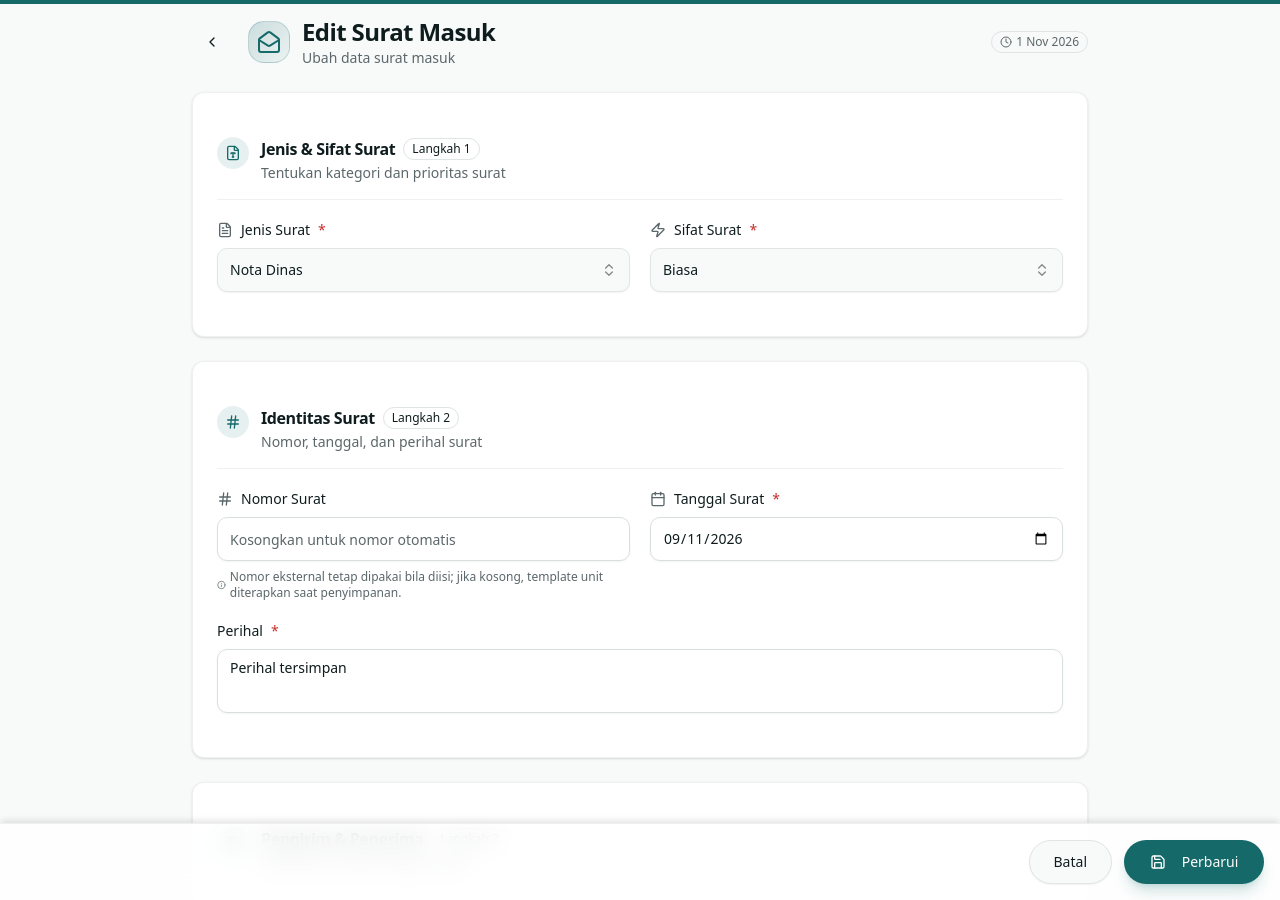
Test case: form surat masuk › focuses a server error, retains the entered data, and allows retry
Replace the text in the text box labelled "Perihal *" with "Perubahan belum tersimpan": (640, 681) x1=217 y1=649 x2=1063 y2=713
(page scrolled)
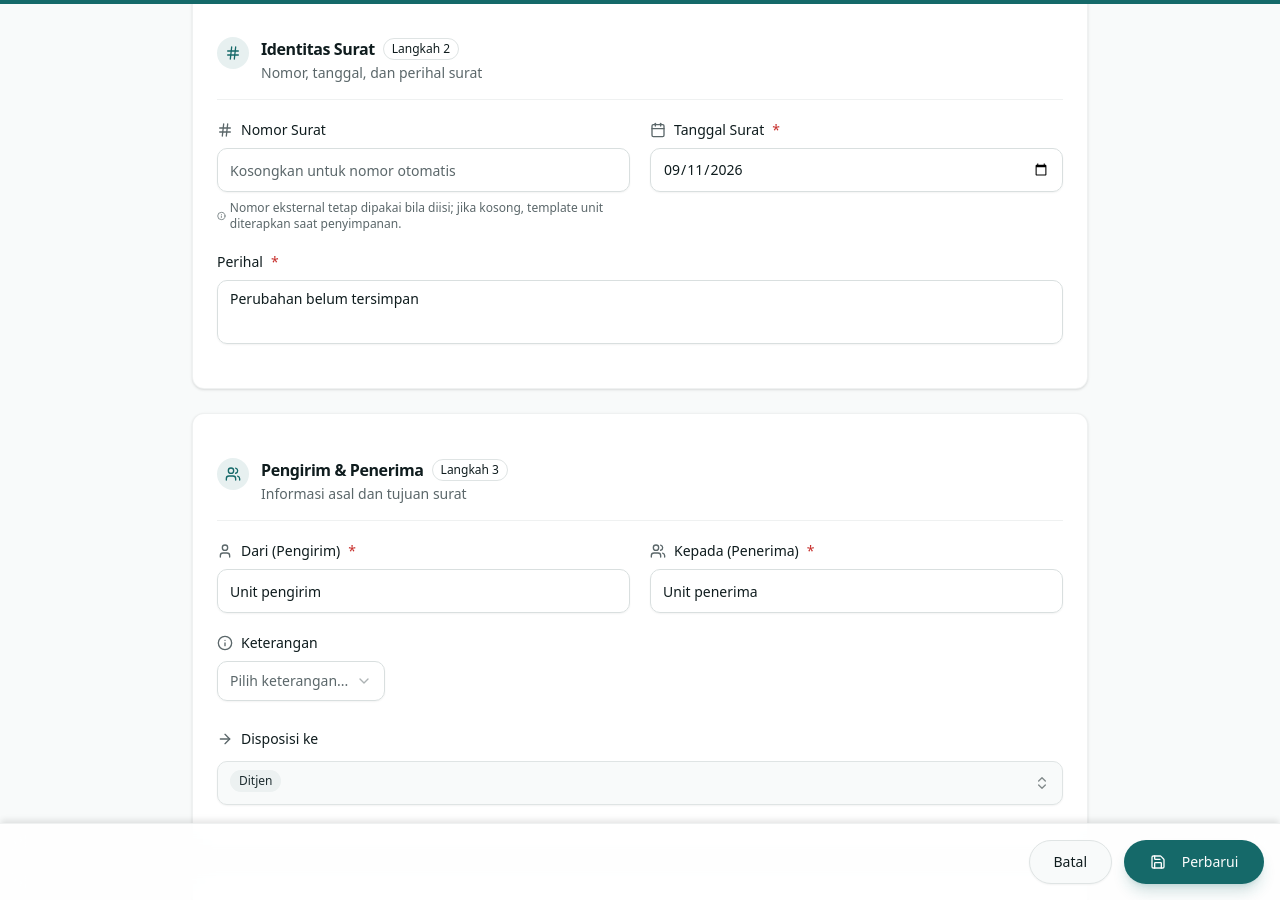
Submit the form
(page scrolled)
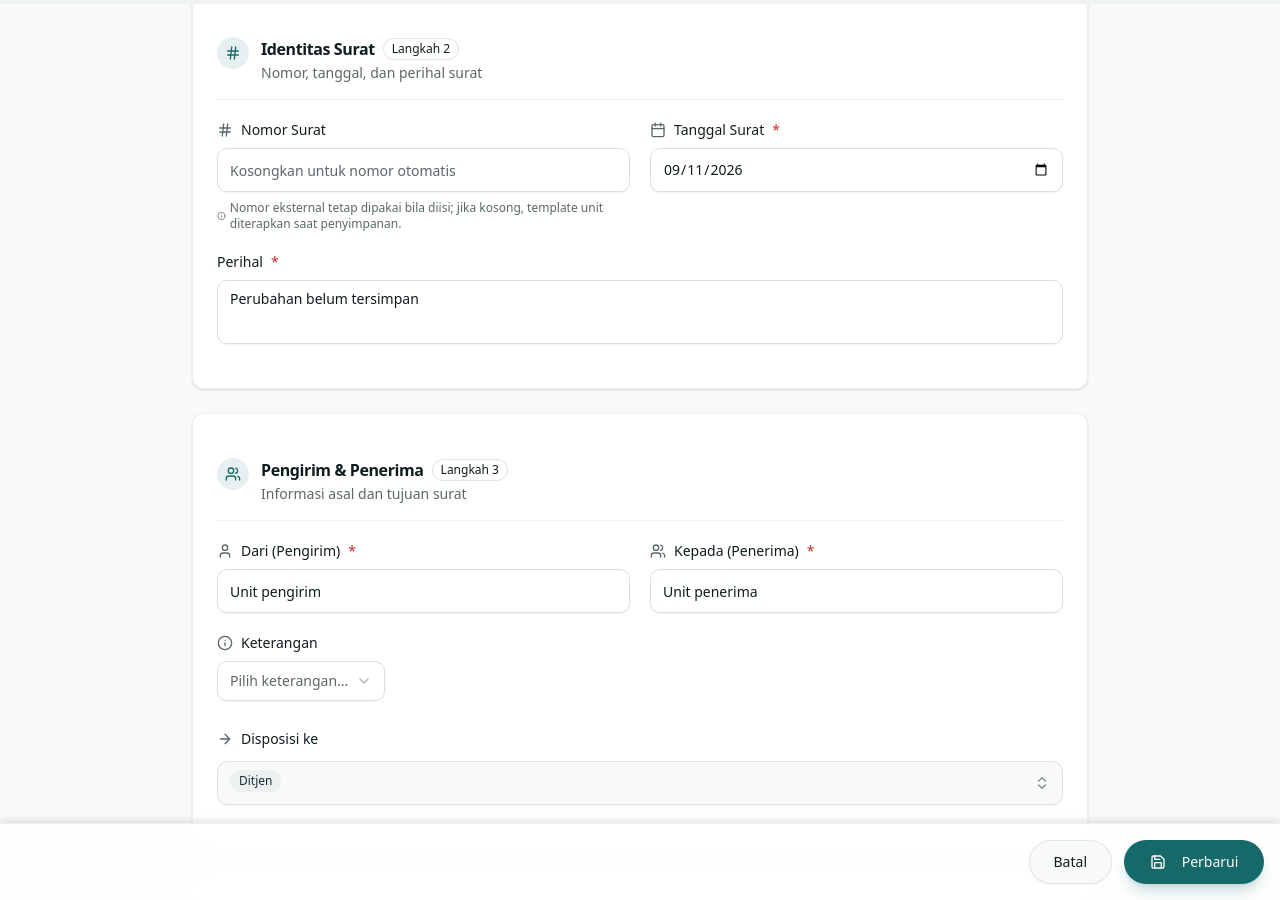
Expected: the button "Perbarui" is enabled, x1=1124 y1=840 x2=1264 y2=884
Submit the form
(page scrolled)
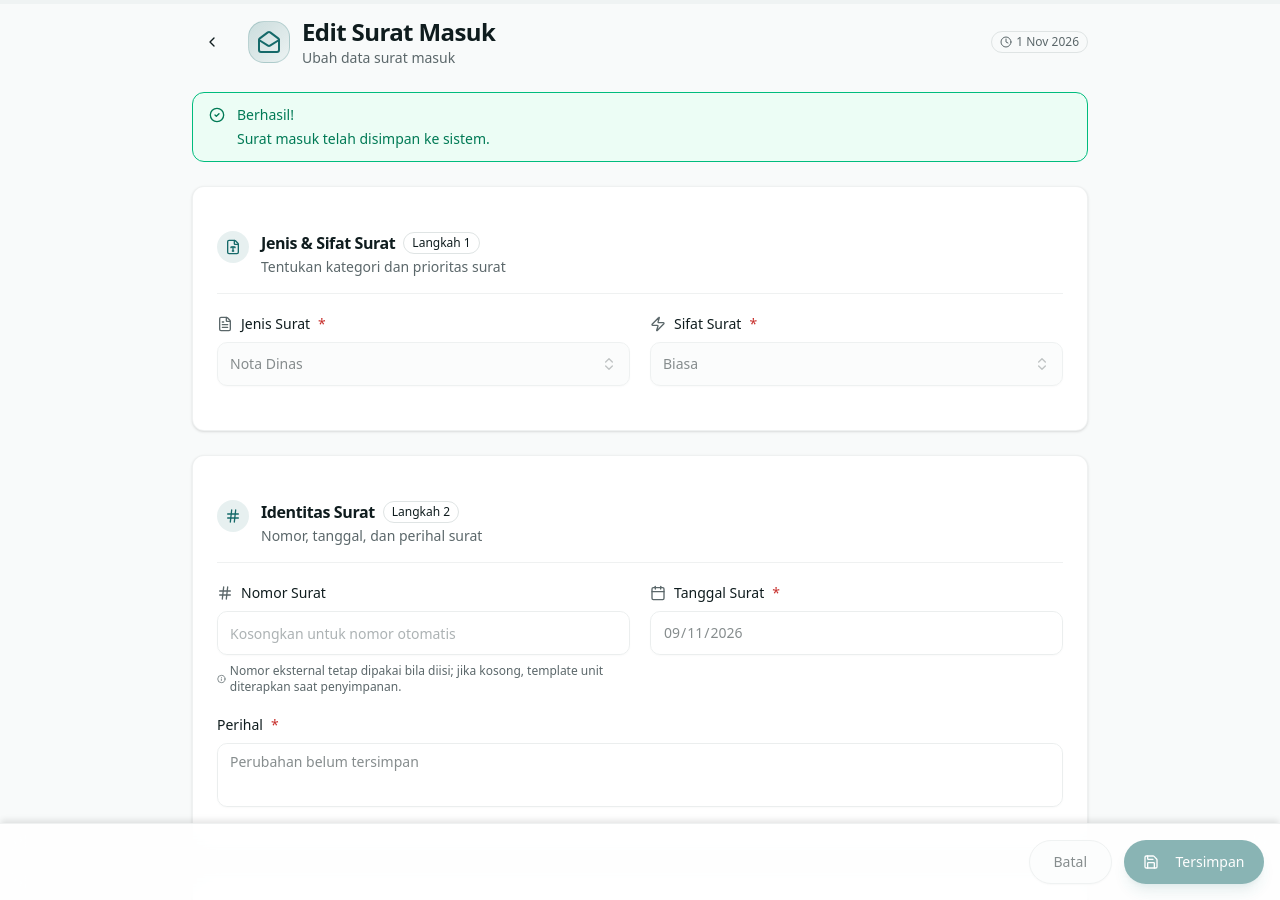
Now the text "Berhasil! Surat masuk telah disimpan ke sistem." is shown, box x1=237 y1=105 x2=490 y2=148
